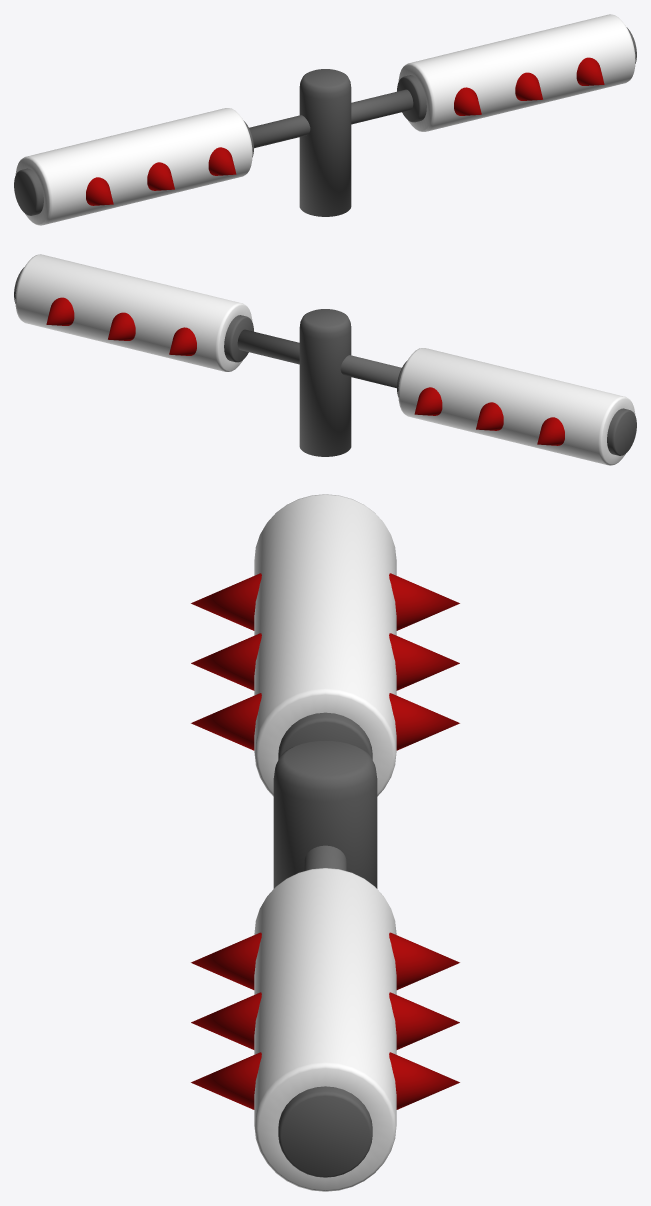
File: SpikeCylinder2.fbx
The picture shows the model from 3 angles, top to bottom: view 1: azimuth 30°, elevation 25°; view 2: azimuth 150°, elevation 25°; view 3: azimuth 270°, elevation 25°; orthographic projection. The views are drawn at different scales.
Visible parts, largest first — view 1: SpikeCylinder2; view 2: SpikeCylinder2; view 3: SpikeCylinder2.
Boxes of the visible parts, x1,y1,x2,y2 form: SpikeCylinder2: (14,14,636,225); SpikeCylinder2: (14,254,636,465); SpikeCylinder2: (191,494,459,1191).
Bounding box in the file's own units: 4.9 × 0.9523 × 1.
